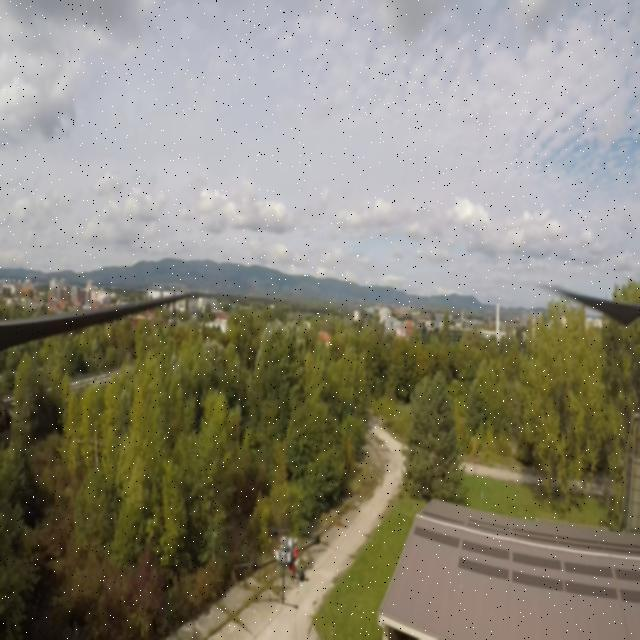UAV: (236, 530, 328, 612)
